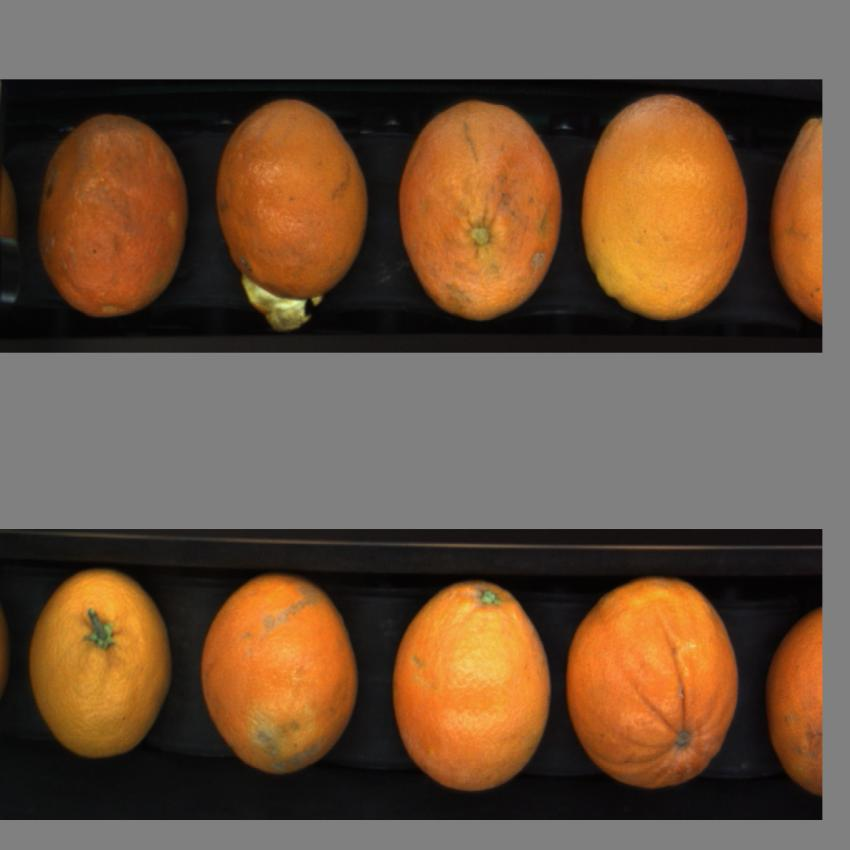Buen estado: (578, 86, 752, 326), (563, 572, 744, 793), (382, 577, 559, 799), (195, 576, 364, 784), (17, 566, 178, 773), (765, 605, 824, 805), (772, 108, 822, 334)
Mal estado: (212, 92, 372, 335), (397, 96, 566, 326), (34, 107, 194, 316)
